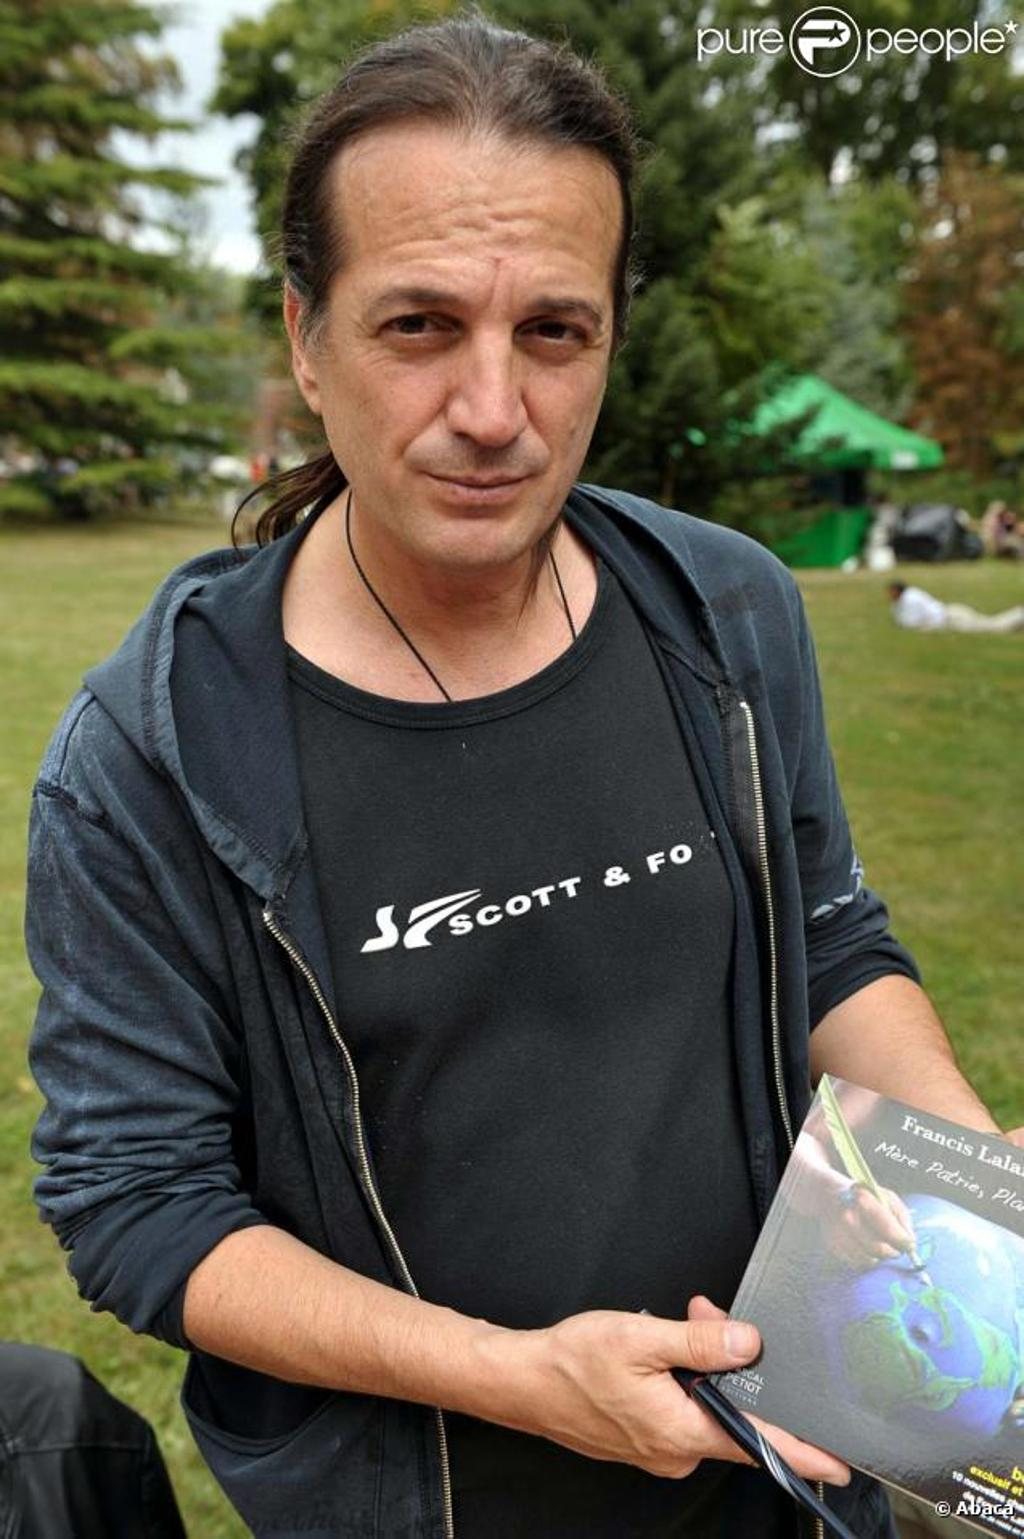face: (336, 120, 618, 546)
